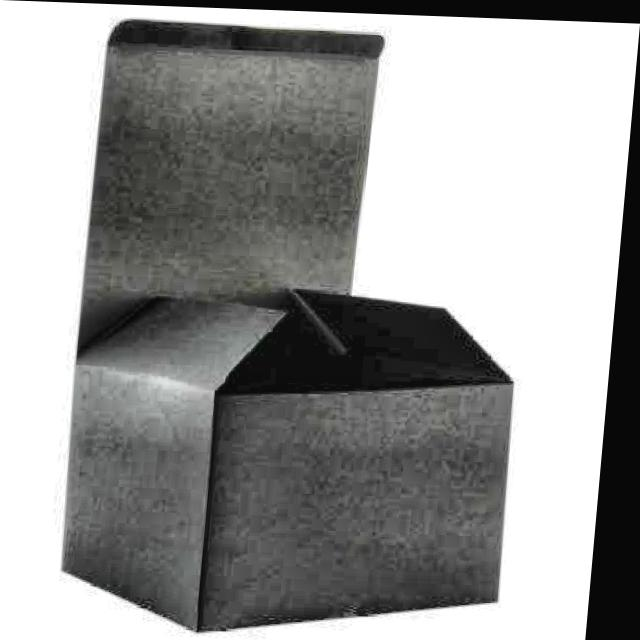Cardbox: (47, 24, 563, 635), (208, 284, 526, 627)
